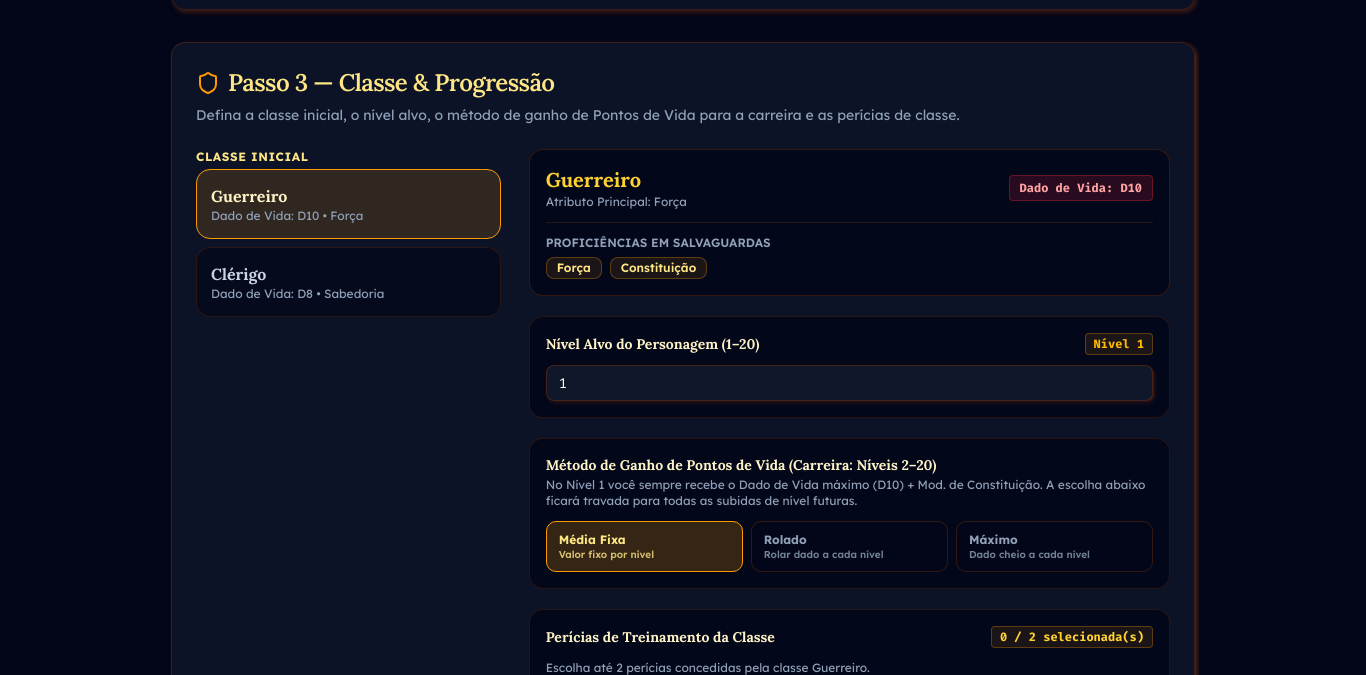
Scenario: TE-01: Wizard Single-Chance Roll Guard & Slot Validation › Step 3 & Step 4: configures Target Level > 1 guided progression notice, career HP method lock, Level 1 Subclass (when subclassLevel === 1), Origin Feat, and ski
Earlier steps of the test are not shown.
(page scrolled)
Expected: the text "Passo 3 — Classe & Progressão" is shown, [196,67,554,98]
Expected: the button with test id "hp-method-AVERAGE" is shown, [546,521,743,572]
Step 1. Click the button "Clérigo Dado de Vida: D8 • Sabedoria" → click(239, 274), box [196,247,501,317]
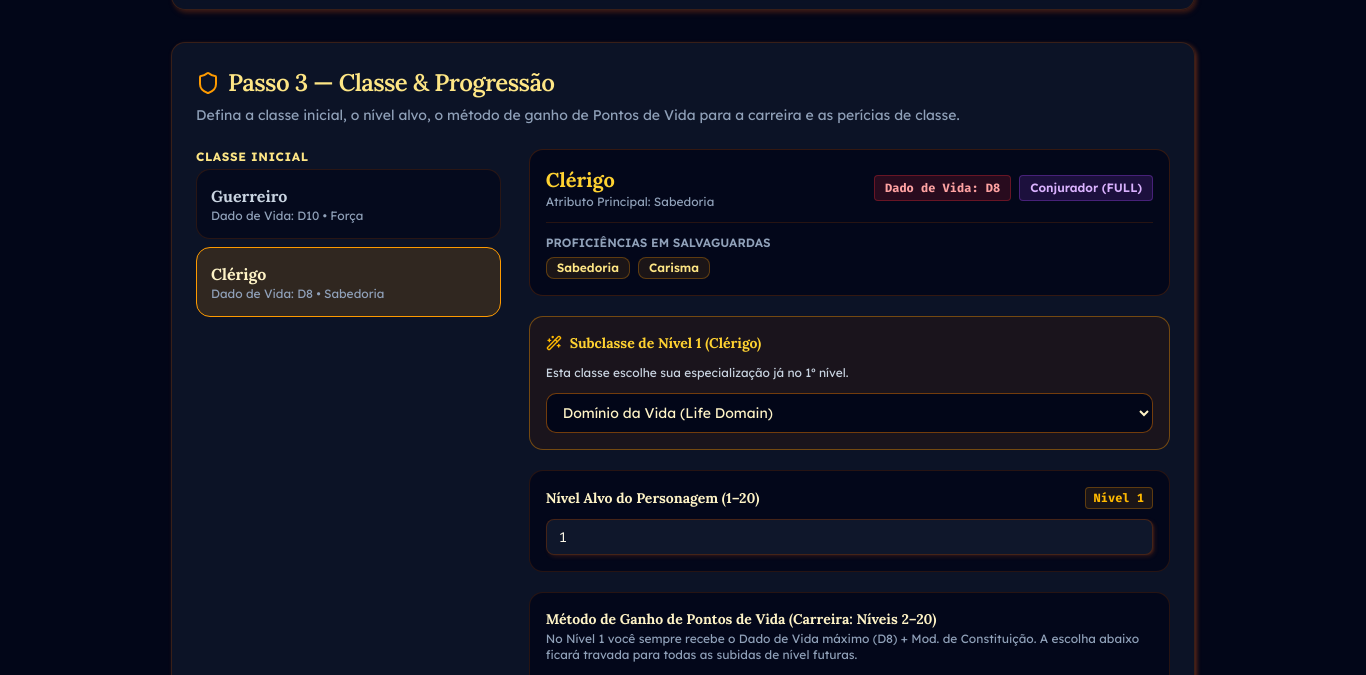
Now the dropdown with test id "level-1-subclass-select" is shown, box [546,393,1153,433]
Step 2. Click the button "Guerreiro Dado de Vida: D10 • Força" → click(249, 196), box [196,169,501,239]
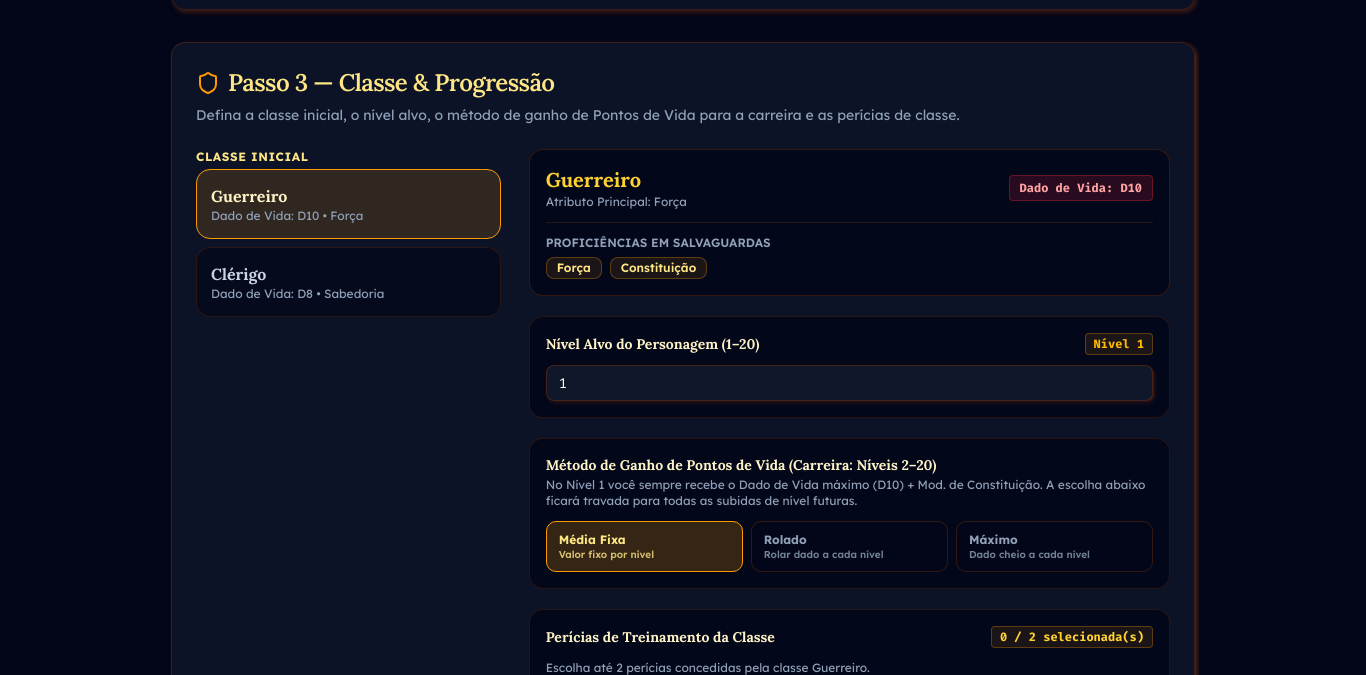
Now the dropdown with test id "level-1-subclass-select" is gone
Step 3. Replace the text in the number field labelled "Nível Alvo do Personagem (1–20)" with "5" → (849, 383), box [546,365,1153,401]
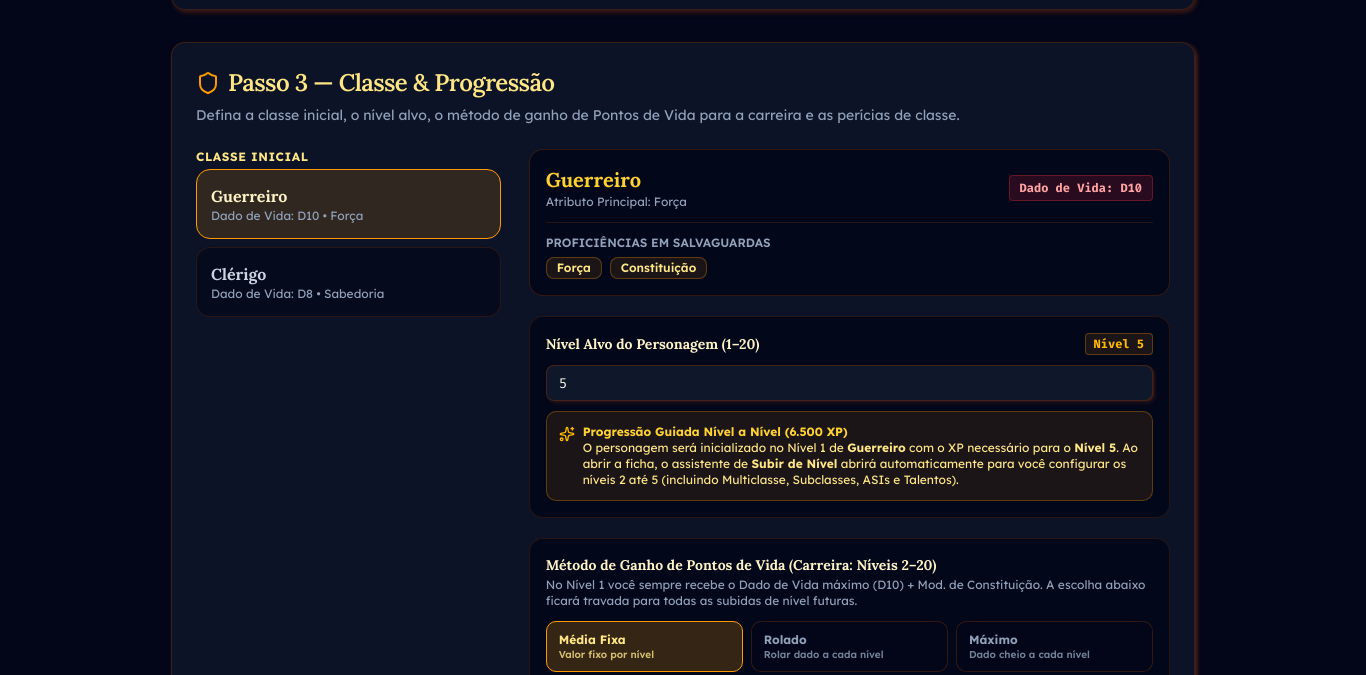
Now the element with test id "higher-level-creation-notice" is shown, box [546,411,1153,501]
Select ROLLED career HP method
Step 4. Click the button with test id "hp-method-ROLLED" → click(849, 647), box [751,621,948,672]
(page scrolled)
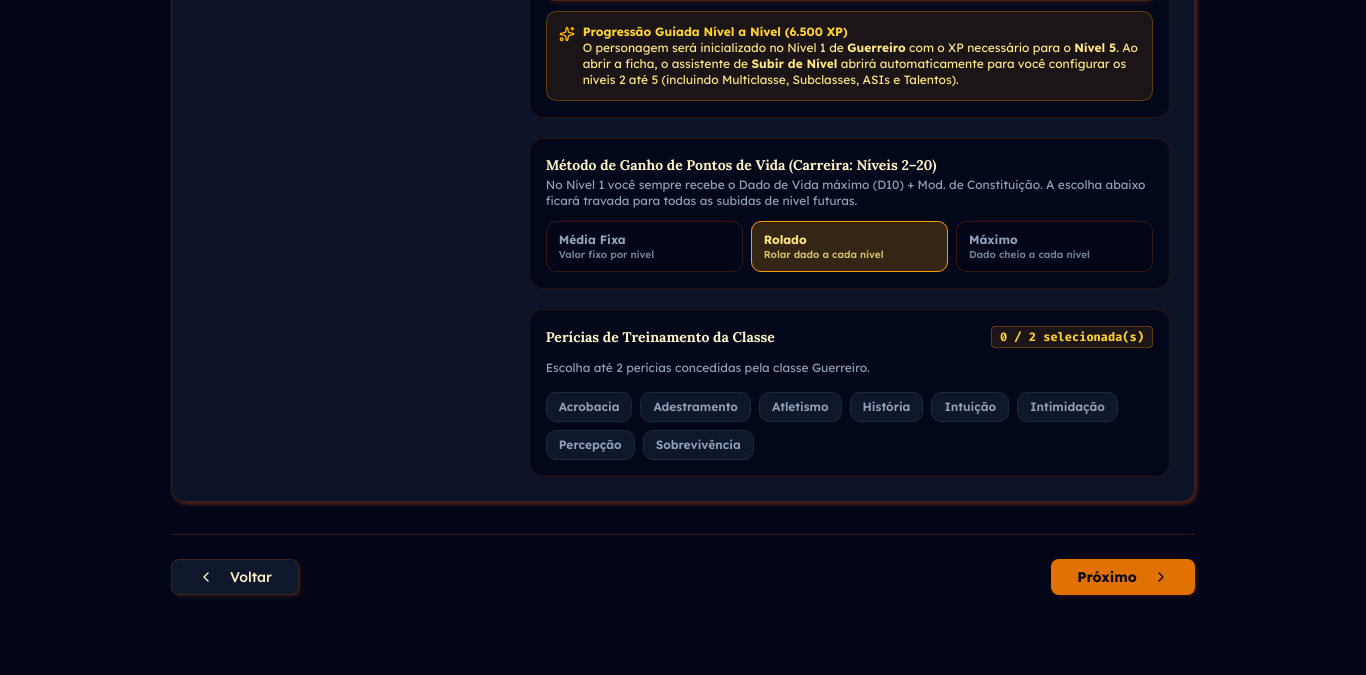
Now the text with test id "class-skills-counter" reads "0 / 2 selecionada(s)", box [991,326,1153,348]
Step 5. Click the button "Atletismo" → click(800, 407), box [759,392,842,422]
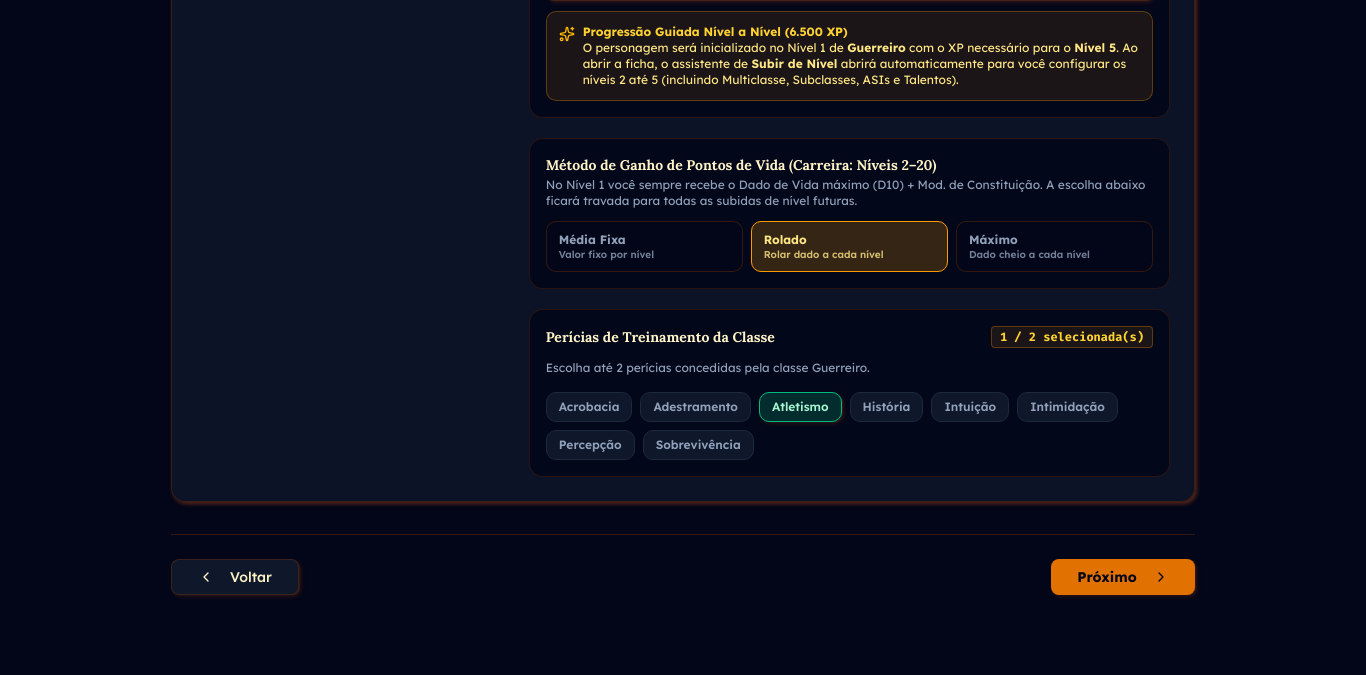
Now the text with test id "class-skills-counter" reads "1 / 2 selecionada(s)", box [991,326,1153,348]
Advance to Step 4
Step 6. Click the button "Próximo" → click(1123, 577), box [1051,559,1195,595]
(page scrolled)
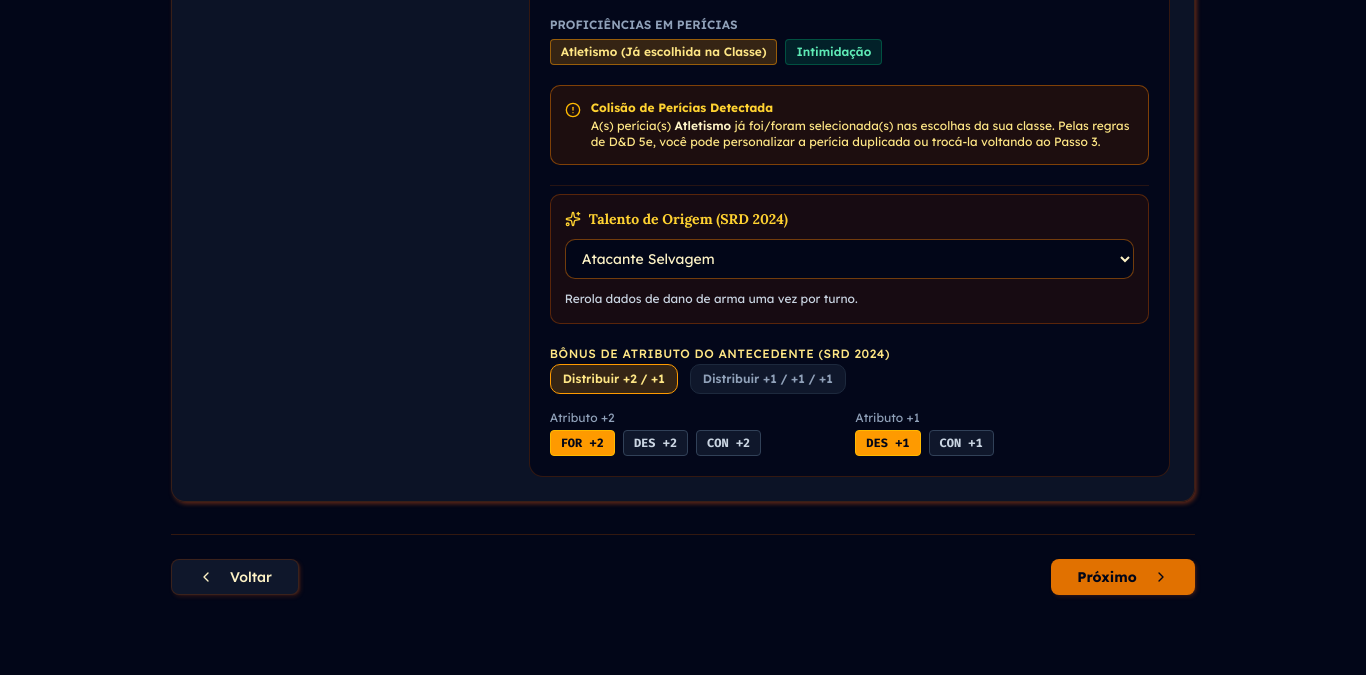
Now the text "Colisão de Perícias Detectada" is shown, box [591,100,773,115]
Now the dropdown with test id "origin-feat-select" is shown, box [565,239,1134,279]
